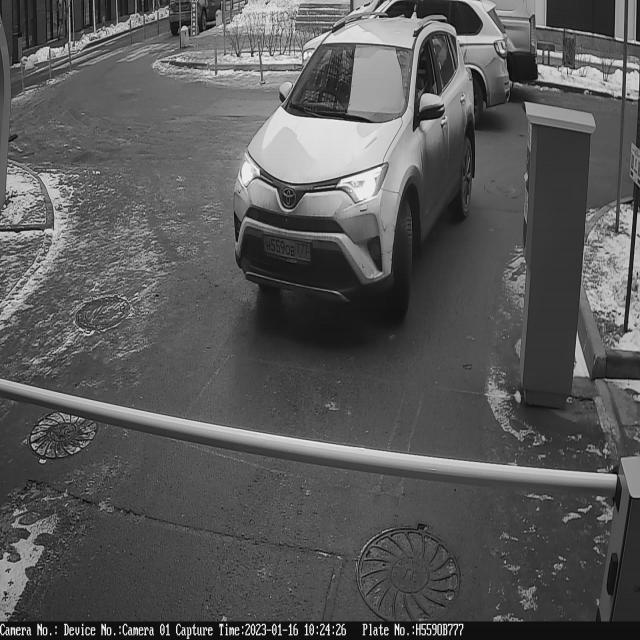car-plate-numbers: (263, 228, 314, 268)
